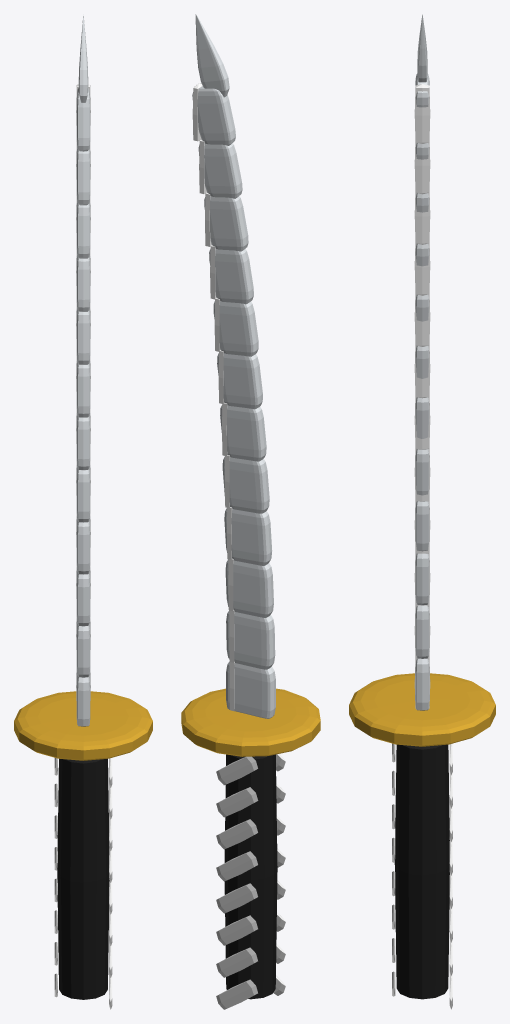
File: m-katana.glb
The picture shows the model from 3 angles, left to right: view 1: azimuth 90°, elevation 25°; view 2: azimuth 150°, elevation 25°; view 3: azimuth 270°, elevation 25°; orthographic projection. The views are drawn at different scales.
Visible parts, largest first — view 1: melee; view 2: melee; view 3: melee.
Boxes of the visible parts, x1,y1,x2,y2 form: melee: (14,14,152,1009); melee: (181,14,320,1009); melee: (349,14,495,1009).
Size of the model in its own units: 0.3976 by 3.04 by 0.3976.
